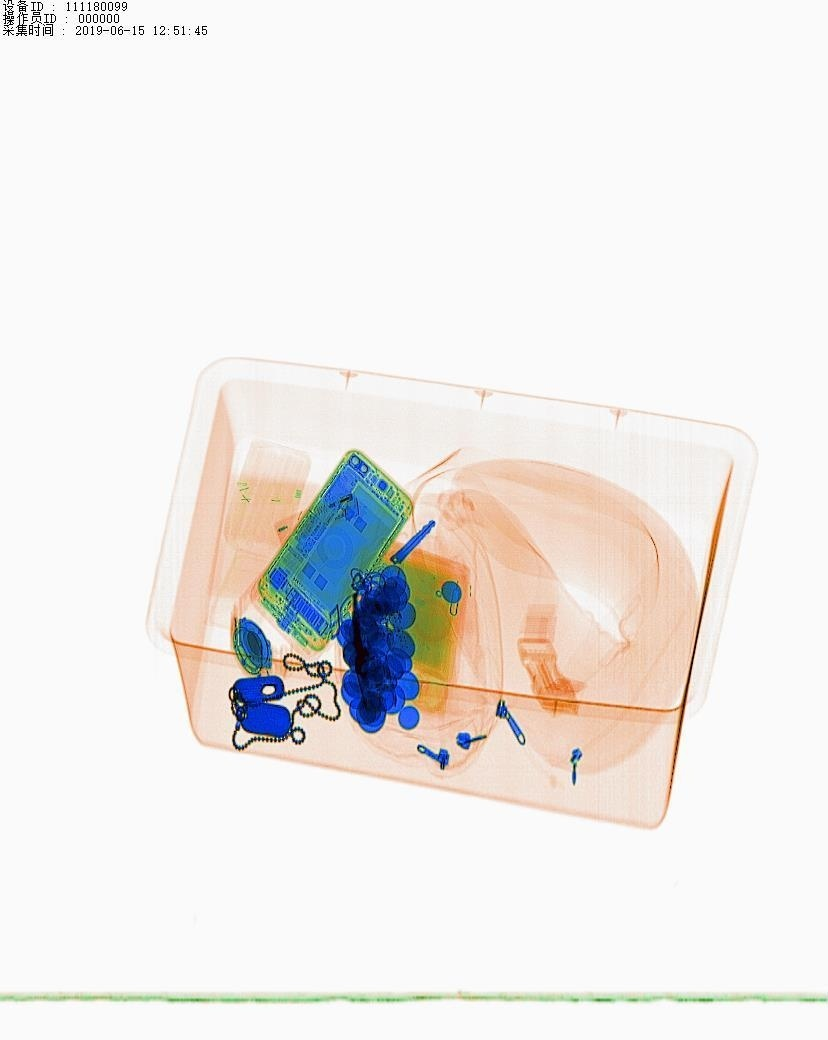NonmetallicFire: (254, 483, 373, 553)
